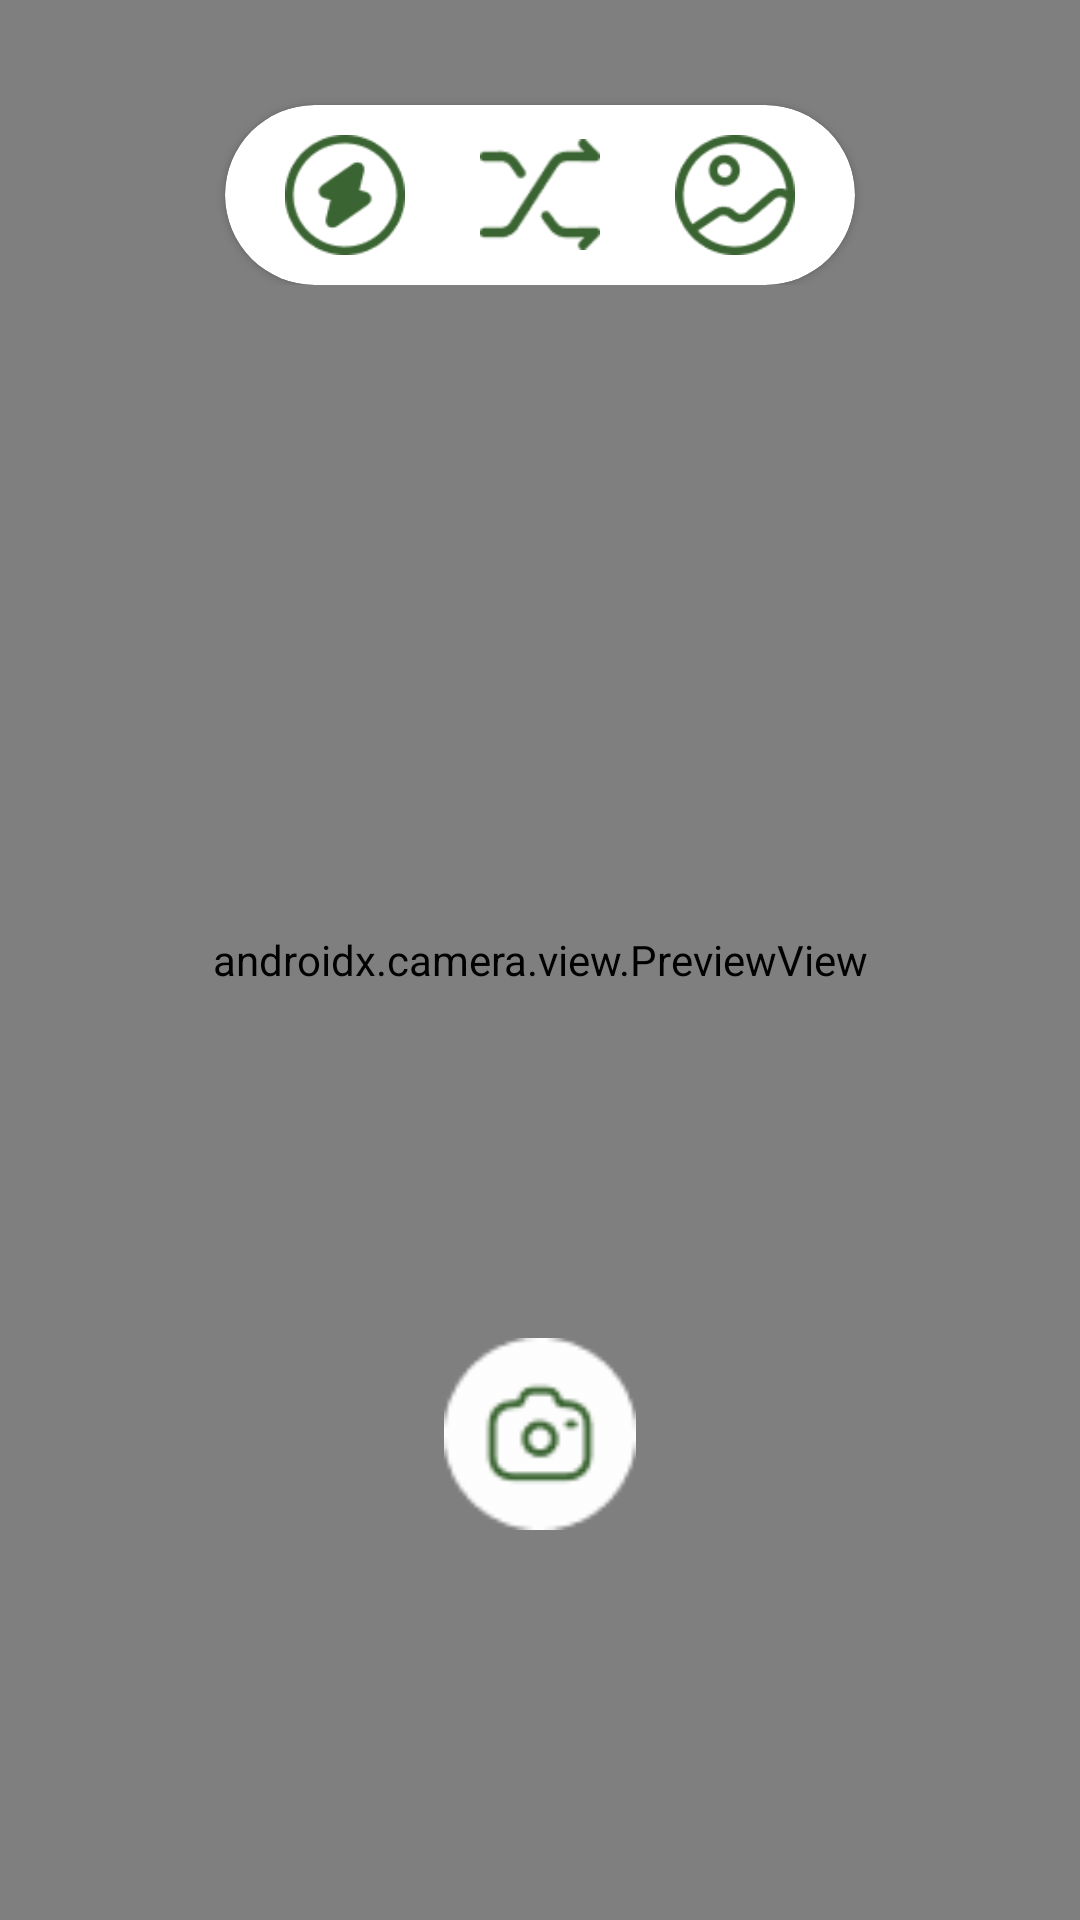

Screen size 1080×1920. Icon name, then its center in pixels as point (x, y):
custom camera: point (540, 1434)
Tombol Flash Camera: point (345, 195)
Tombol Flip Camera: point (540, 194)
Tombol Gallery Camera: point (735, 195)
